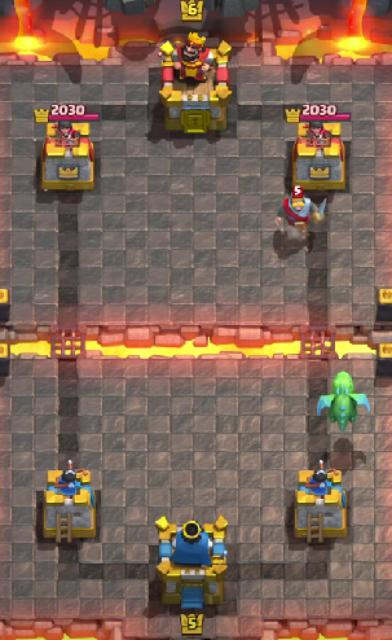ally_melee: (314, 371, 375, 438)
enemy_melee: (276, 184, 328, 246)
